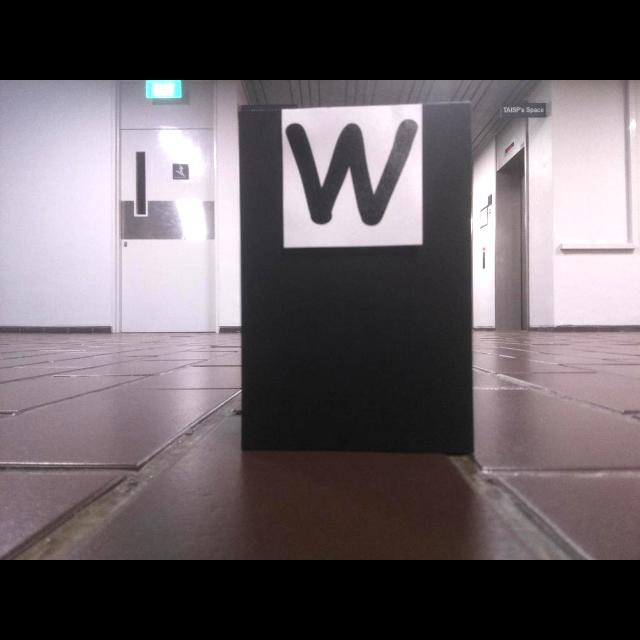W: (283, 117, 421, 229)
